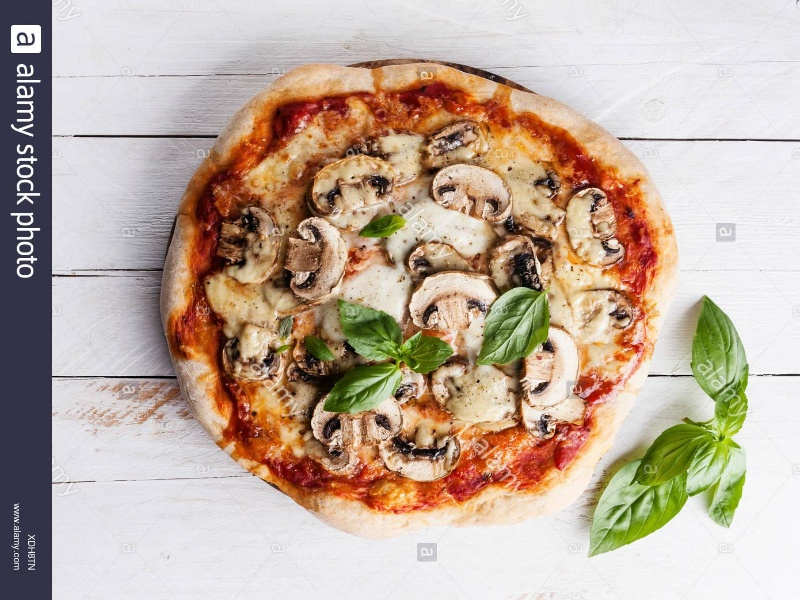champignon: (307, 382, 411, 459), (276, 215, 357, 308), (213, 203, 292, 291), (559, 183, 632, 275), (402, 268, 502, 335), (429, 162, 519, 233), (516, 322, 583, 413), (217, 324, 297, 399), (304, 156, 395, 218), (380, 417, 465, 482), (416, 118, 502, 166)
